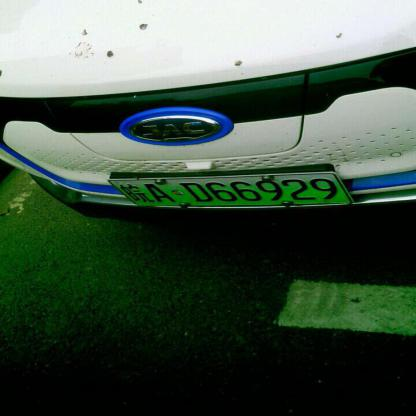lp: (110, 173, 352, 206)
